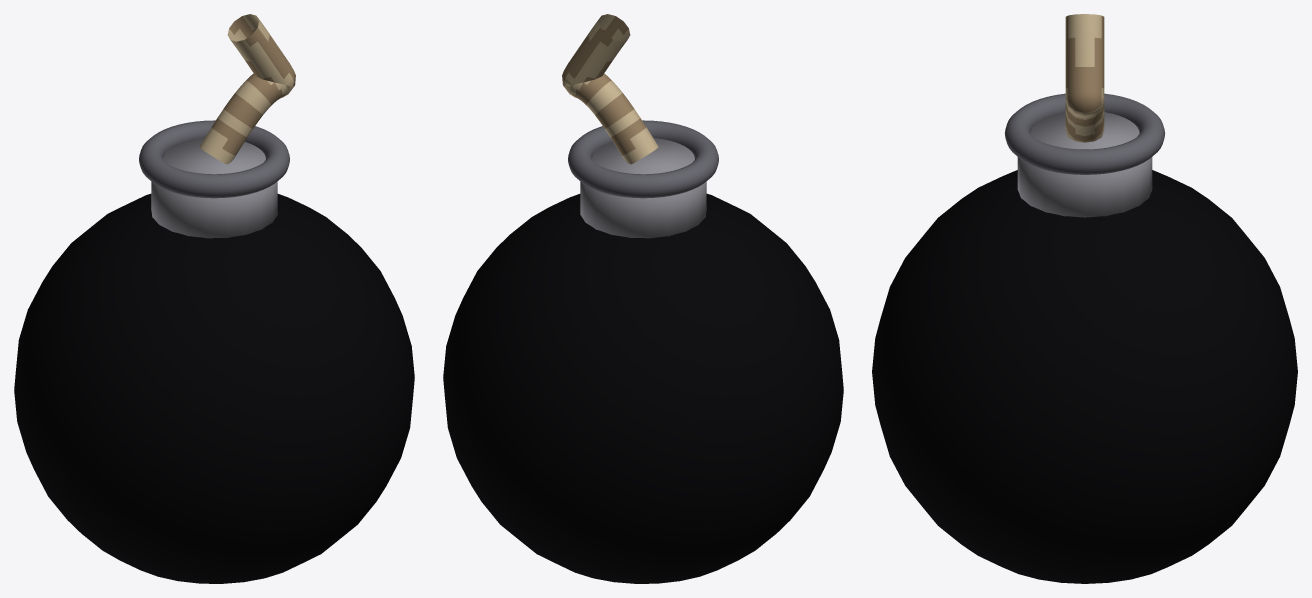
The model's file is enemy_bomb.glb.
3 renders of one model, left to right at view 1: azimuth 30°, elevation 25°; view 2: azimuth 150°, elevation 25°; view 3: azimuth 270°, elevation 25°, orthographic. The views are drawn at different scales.
Parts seen in each view (by area): view 1: Bomb; view 2: Bomb; view 3: Bomb.
Boxes of the visible parts, x1,y1,x2,y2 form: Bomb: [14, 14, 414, 583]; Bomb: [443, 14, 843, 583]; Bomb: [872, 14, 1297, 583].
Bounding box in the file's own units: 0.6 × 0.8899 × 0.6.
